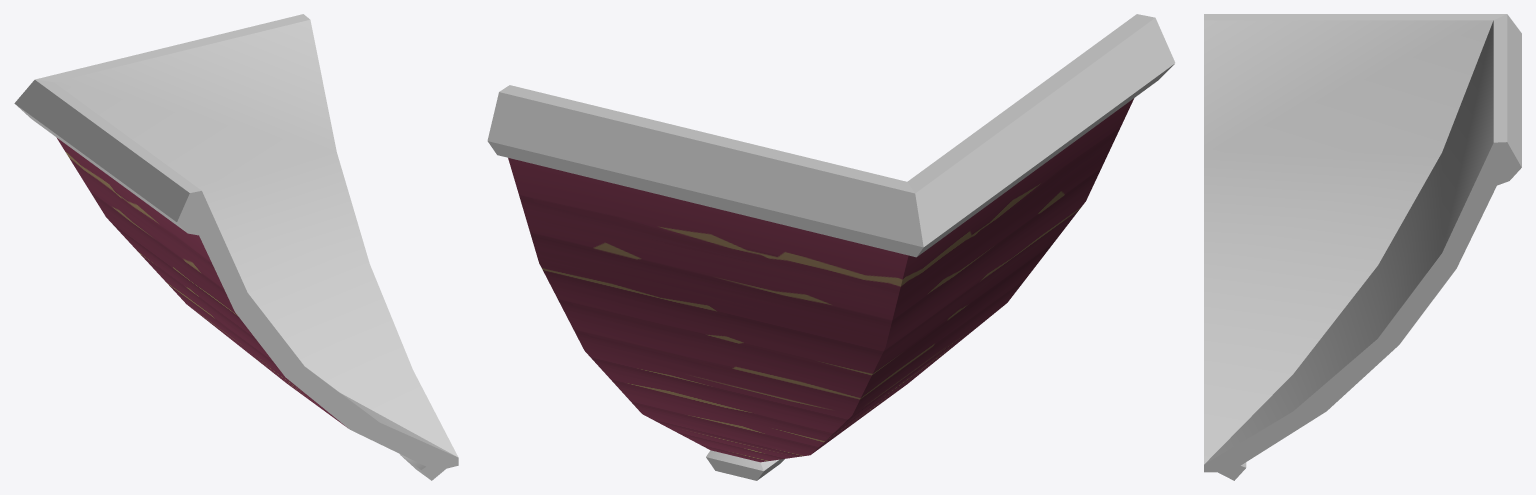
The model's file is SM_Bld_Roof_Concave_Corner_In_01.fbx.
The picture shows the model from 3 angles, left to right: view 1: azimuth 30°, elevation 25°; view 2: azimuth 150°, elevation 25°; view 3: azimuth 270°, elevation 25°; orthographic projection. The views are drawn at different scales.
Parts seen in each view (by area): view 1: SM_Bld_Roof_Concave_Corner_In_01; view 2: SM_Bld_Roof_Concave_Corner_In_01; view 3: SM_Bld_Roof_Concave_Corner_In_01.
Boxes of the visible parts, x1=… form: SM_Bld_Roof_Concave_Corner_In_01: x1=14, y1=14, x2=458, y2=480; SM_Bld_Roof_Concave_Corner_In_01: x1=487, y1=14, x2=1175, y2=480; SM_Bld_Roof_Concave_Corner_In_01: x1=1204, y1=14, x2=1521, y2=480.
Bounding box in the file's own units: 262 × 308 × 262.
